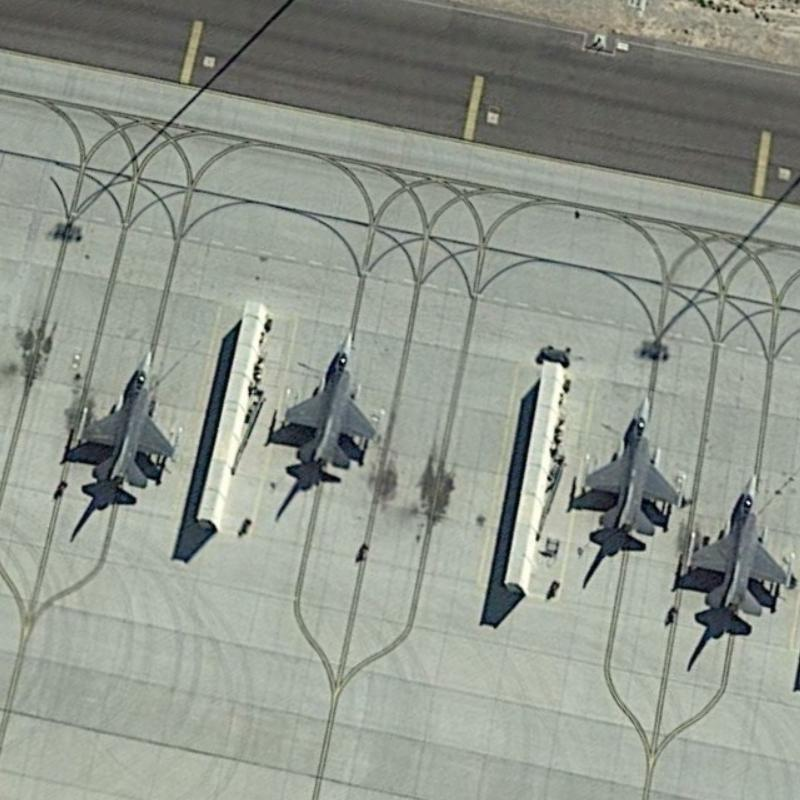A5: (675, 460, 792, 630), (270, 317, 388, 482), (573, 391, 689, 556), (64, 341, 183, 499)
